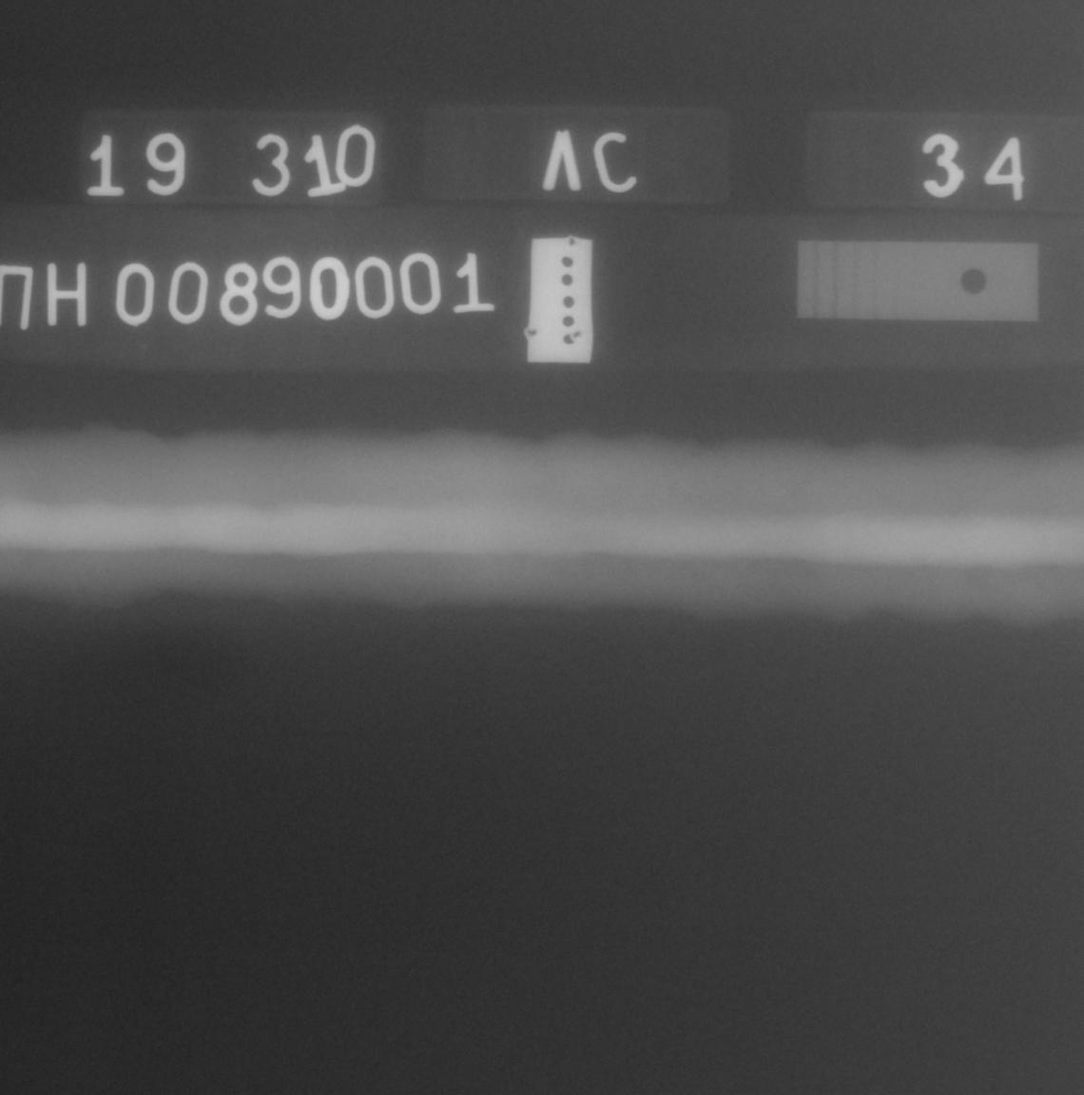Reference Standard 1: (796, 240, 1038, 321)
